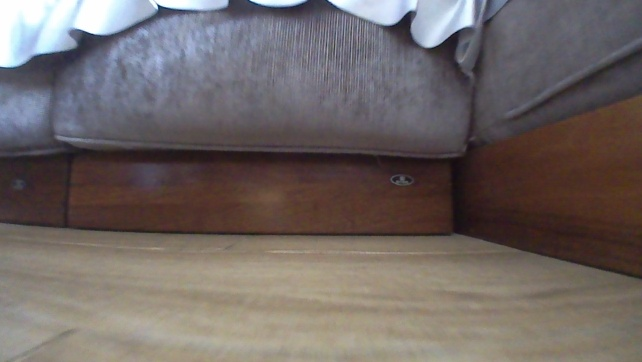sofa1: (0, 0, 641, 284)
